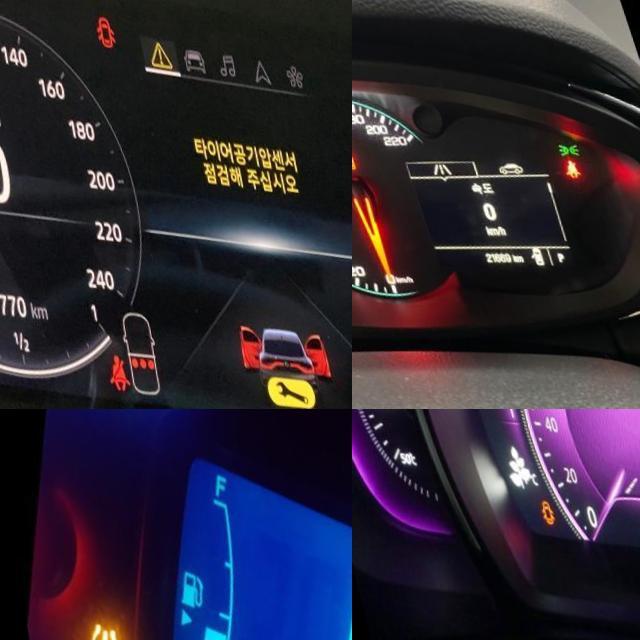Central Warning lamp: (139, 28, 165, 61)
Doors: (86, 7, 109, 41), (524, 488, 542, 516)
SideLamp: (549, 120, 574, 139)
